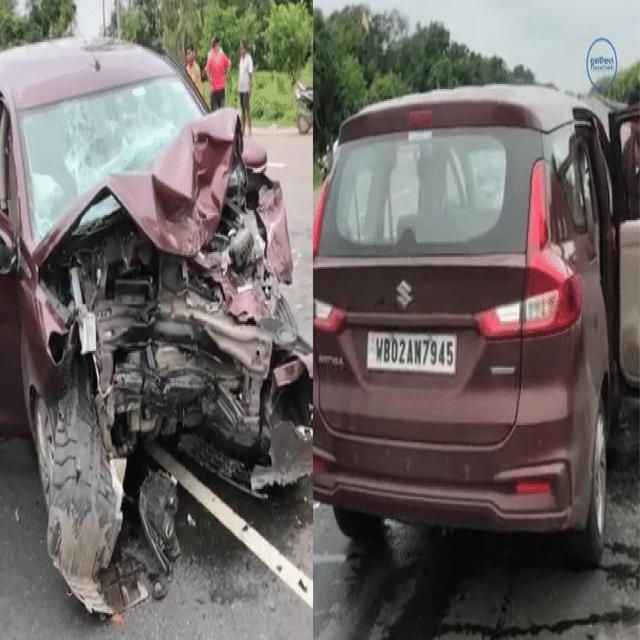accident: (0, 40, 311, 614)
car: (312, 86, 640, 564)
